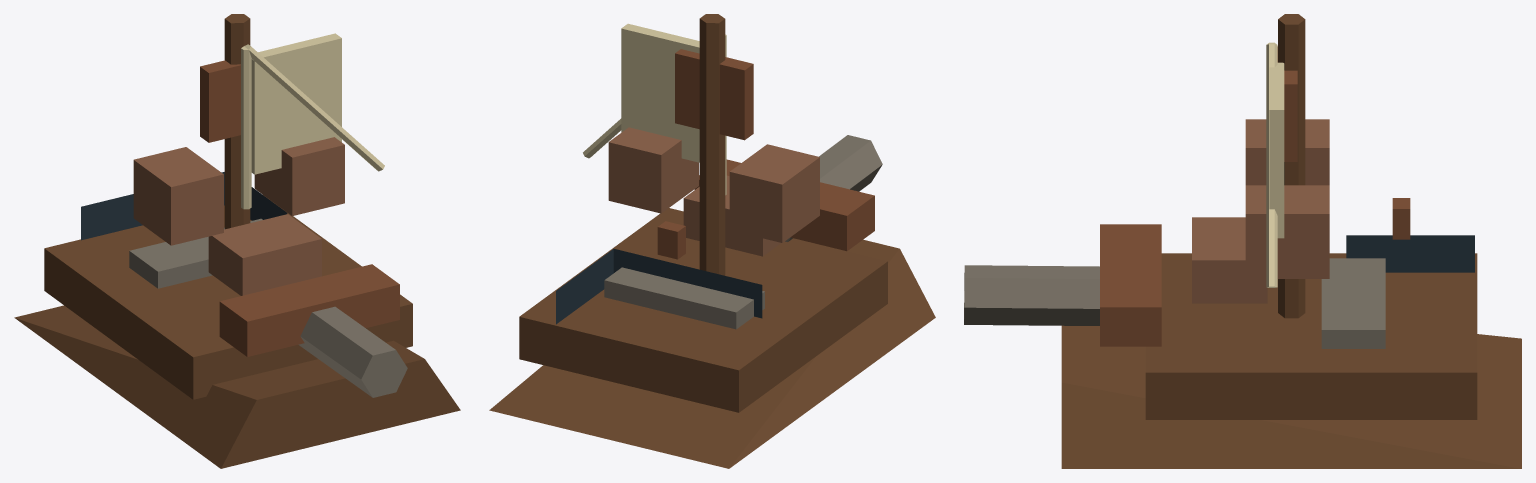
Rendered from light-warship.obj.
3 views of the same model, side by side, from view 1: azimuth 30°, elevation 25°; view 2: azimuth 150°, elevation 25°; view 3: azimuth 270°, elevation 25° (orthographic). The views are drawn at different scales.
Parts seen in each view (by area): view 1: ship; view 2: ship; view 3: ship.
Boxes of the visible parts, <box> form: ship: <box>14,14,460,468</box>; ship: <box>489,14,935,468</box>; ship: <box>964,14,1521,468</box>.
Bounding box in the file's own units: 1.66 × 2.13 × 2.79.
